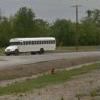Bus: (4, 32, 63, 58)
